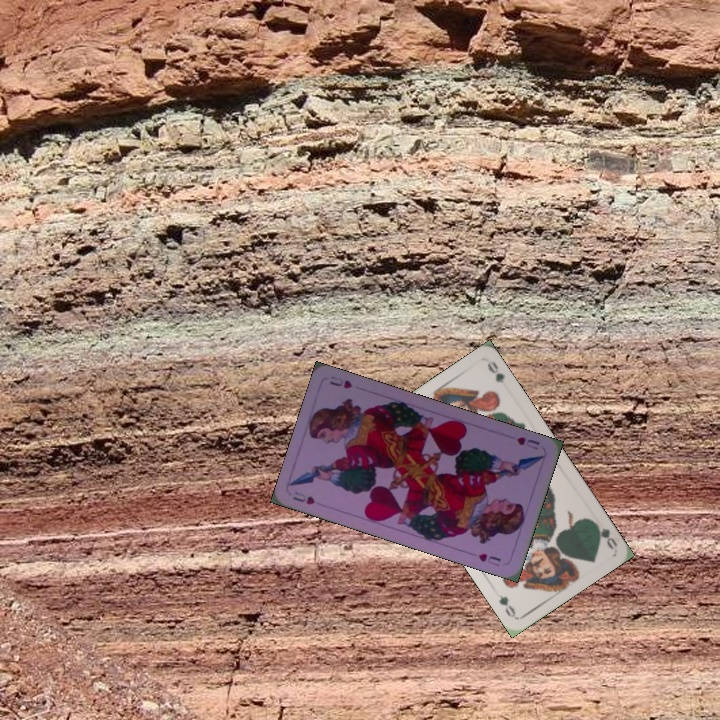GO: (587, 516, 619, 551)
HU: (512, 432, 542, 453), (289, 487, 317, 507)
